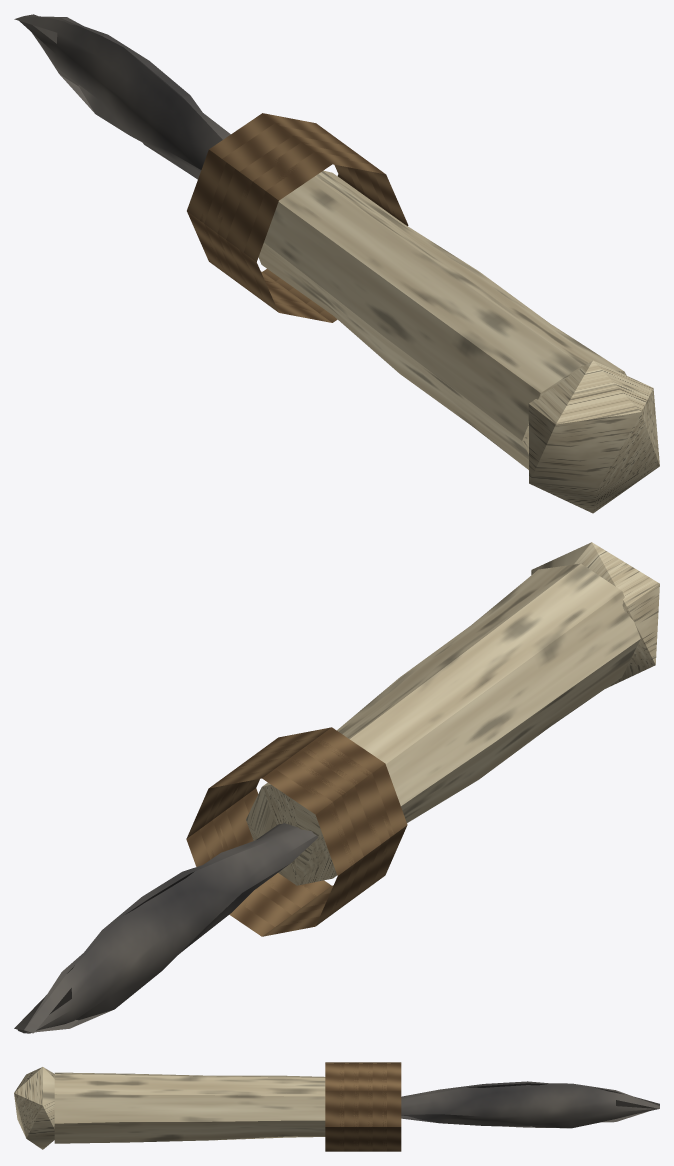
The model's file is TOOL_FlintKnife.fbx.
The picture shows the model from 3 angles, top to bottom: view 1: azimuth 30°, elevation 25°; view 2: azimuth 150°, elevation 25°; view 3: azimuth 270°, elevation 25°; orthographic projection. The views are drawn at different scales.
Parts seen in each view (by area): view 1: TOOL_FlintKnife; view 2: TOOL_FlintKnife; view 3: TOOL_FlintKnife.
Part boxes in pixels (bbox=[...]): TOOL_FlintKnife: bbox=[14, 14, 659, 513]; TOOL_FlintKnife: bbox=[14, 542, 659, 1033]; TOOL_FlintKnife: bbox=[14, 1062, 659, 1151].
Bounding box in the file's own units: 0.04 × 0.04 × 0.2722.
